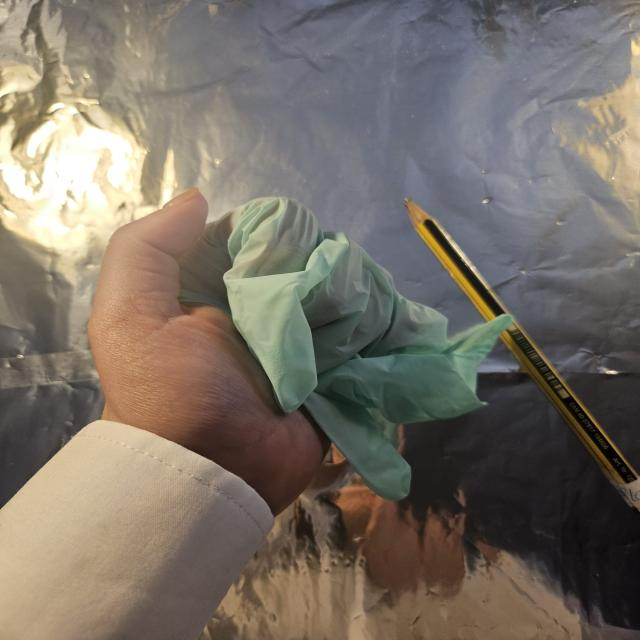glove_partial: (92, 188, 511, 504)
